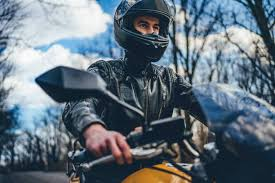com_capacete: (111, 1, 177, 63)
